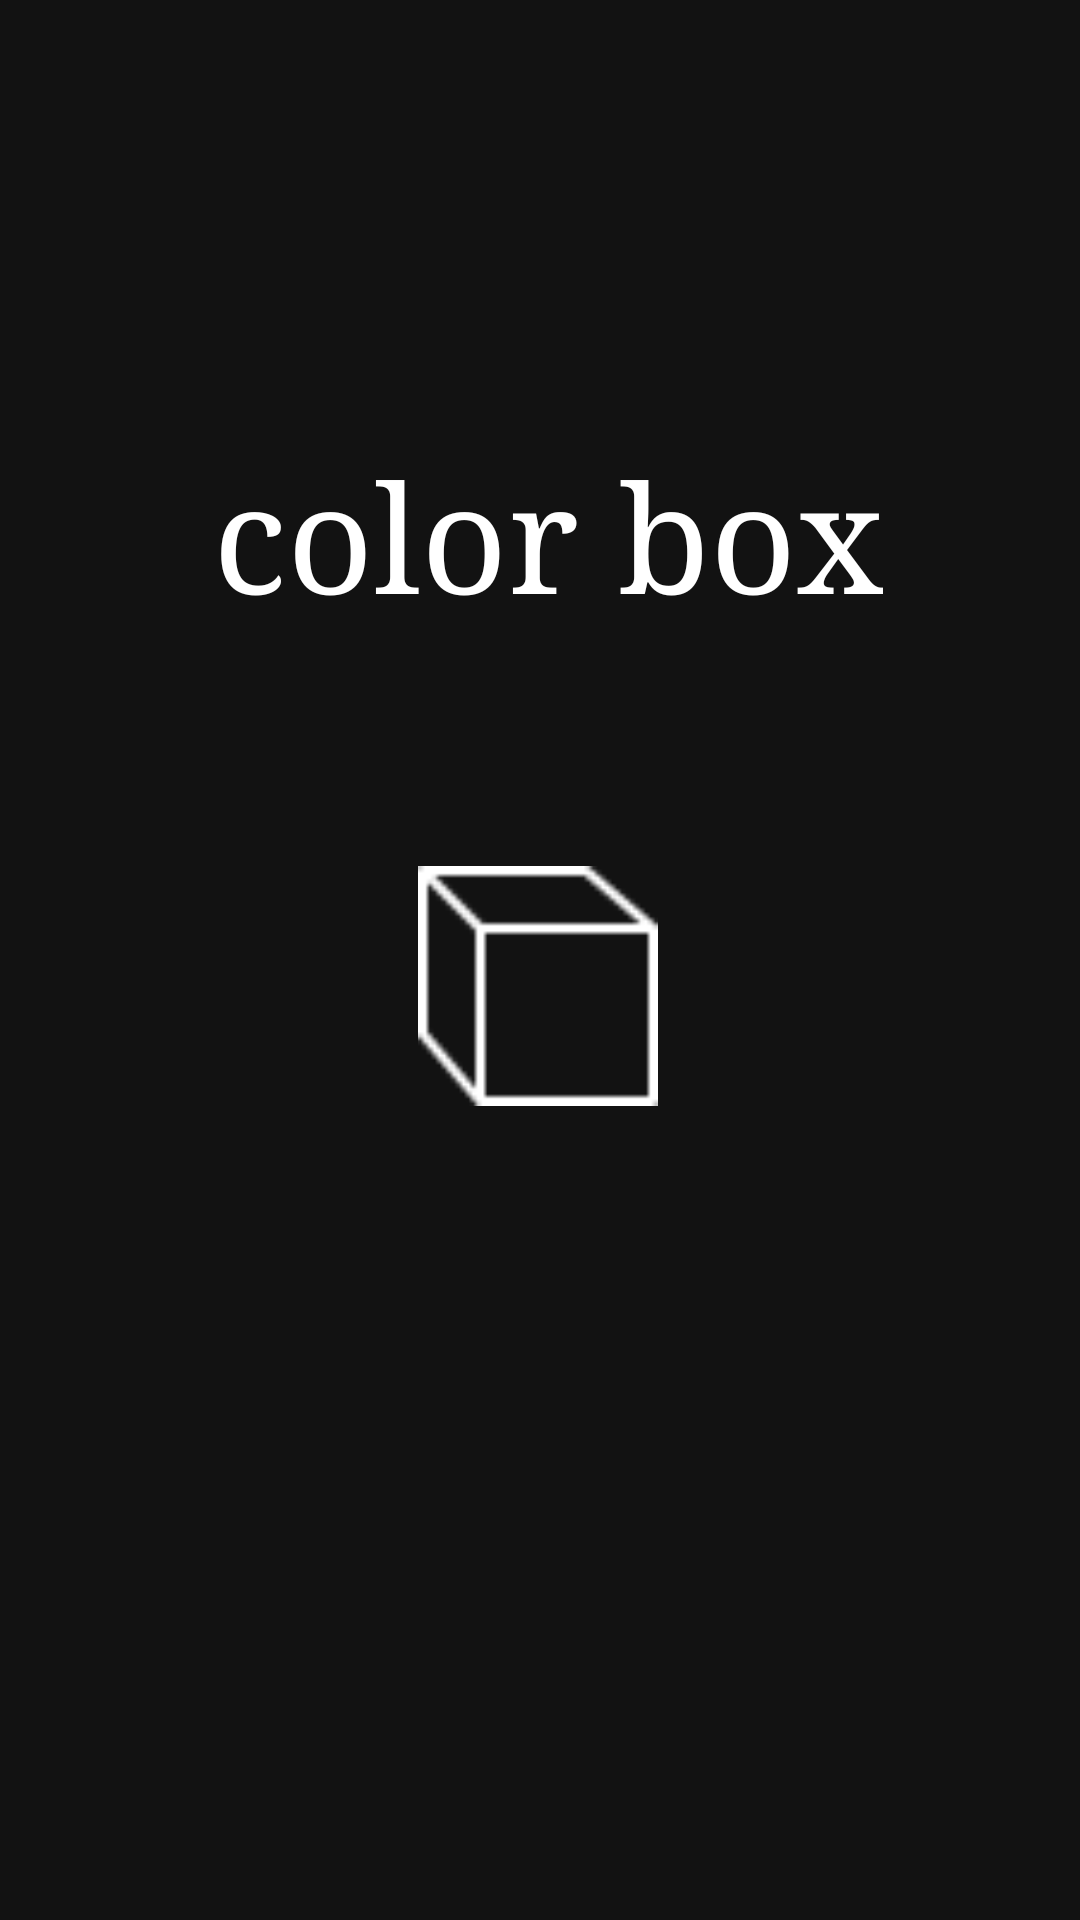

Named icons in this screenshot (1080 × 1920) and their centers, (x=x, y=y):
box: (x=538, y=986)
